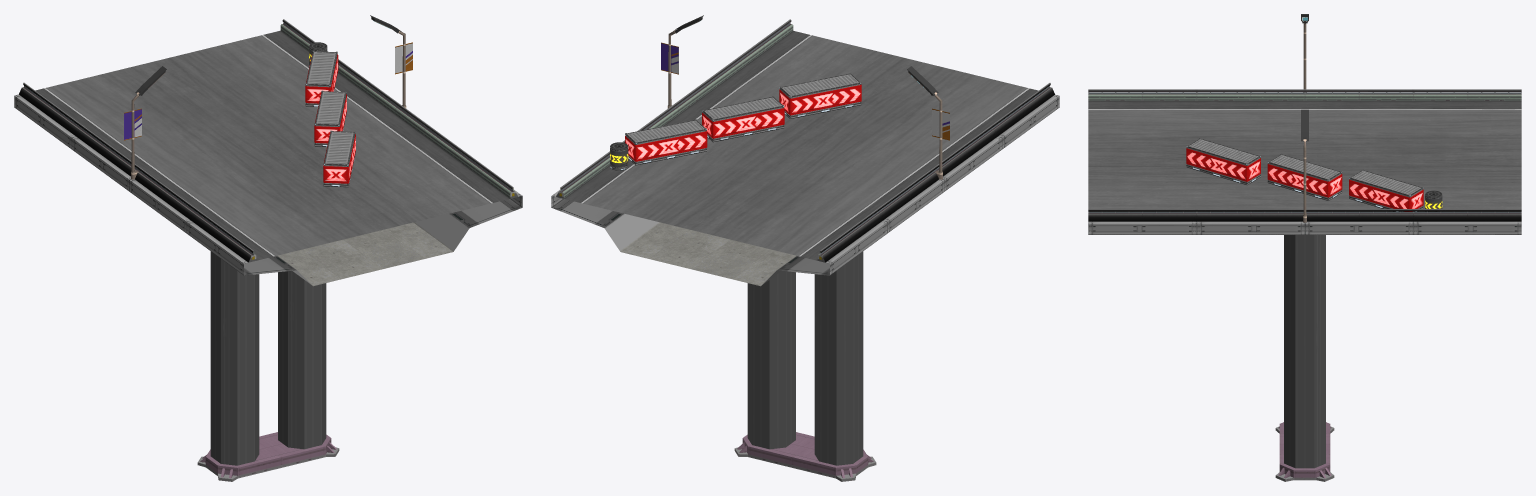
File: T1 - Ground Obstacle 3 UP.fbx
3 renders of one model, left to right at view 1: azimuth 30°, elevation 25°; view 2: azimuth 150°, elevation 25°; view 3: azimuth 270°, elevation 25°, orthographic. The views are drawn at different scales.
Visible parts, largest first — view 1: standard_road, support_pylon, standard_bridge, wall_straight_elevated, barrier_elevated2, support_ground, frame_2, pro_streetlight_banner_1, frame_1, frame, pro_streetlight_banner, cover_2; view 2: standard_road, support_pylon, standard_bridge, wall_straight_elevated, barrier_elevated2, support_ground, cover_1, cover_2, cover, frame, frame_1, frame_2 (+2 smaller); view 3: standard_road, support_pylon, barrier_elevated2, standard_bridge, wall_straight_elevated, support_ground, cover_2, frame_2, cover_1, frame_1, cover, frame (+1 smaller).
Part boxes in pixels (bbox=[...]): standard_road: bbox=[35, 30, 509, 260]; support_pylon: bbox=[210, 251, 326, 465]; standard_bridge: bbox=[14, 94, 522, 286]; wall_straight_elevated: bbox=[19, 19, 514, 262]; barrier_elevated2: bbox=[23, 19, 517, 262]; support_ground: bbox=[197, 432, 339, 481]; frame_2: bbox=[323, 130, 355, 187]; pro_streetlight_banner_1: bbox=[124, 66, 166, 179]; frame_1: bbox=[314, 90, 346, 146]; frame: bbox=[305, 51, 337, 106]; pro_streetlight_banner: bbox=[370, 15, 412, 108]; cover_2: bbox=[323, 133, 355, 183]; standard_road: bbox=[564, 31, 1038, 260]; support_pylon: bbox=[747, 251, 863, 465]; standard_bridge: bbox=[551, 94, 1059, 286]; wall_straight_elevated: bbox=[559, 20, 1054, 262]; barrier_elevated2: bbox=[556, 19, 1049, 262]; support_ground: bbox=[734, 432, 876, 481]; cover_1: bbox=[702, 108, 784, 138]; cover_2: bbox=[779, 84, 861, 115]; cover: bbox=[625, 131, 707, 161]; frame: bbox=[625, 119, 706, 165]; frame_1: bbox=[702, 96, 784, 142]; frame_2: bbox=[779, 73, 861, 118]; standard_road: bbox=[1088, 101, 1521, 211]; support_pylon: bbox=[1284, 235, 1325, 468]; barrier_elevated2: bbox=[1088, 89, 1521, 213]; standard_bridge: bbox=[1088, 221, 1521, 234]; wall_straight_elevated: bbox=[1088, 89, 1521, 221]; support_ground: bbox=[1275, 422, 1334, 481]; cover_2: bbox=[1186, 148, 1260, 181]; frame_2: bbox=[1186, 138, 1260, 185]; cover_1: bbox=[1267, 164, 1342, 197]; frame_1: bbox=[1267, 153, 1342, 200]; cover: bbox=[1349, 179, 1423, 211]; frame: bbox=[1349, 169, 1423, 211].
Bounding box in the file's own units: 4648 × 6391 × 6400.
